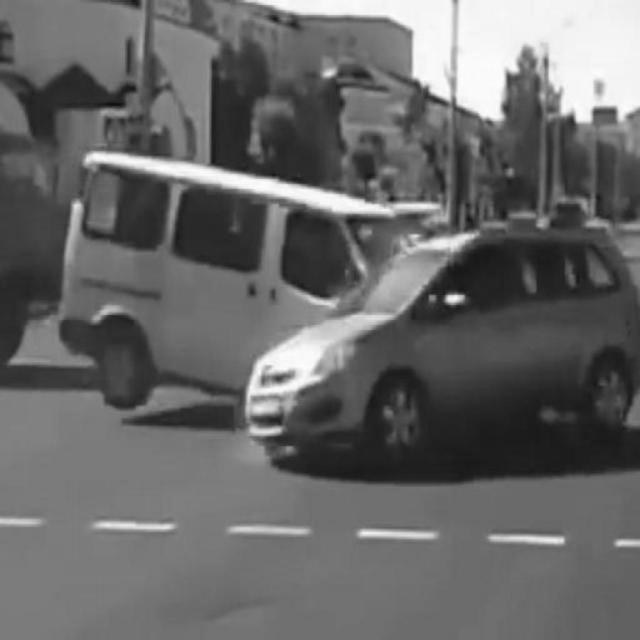accident: (65, 156, 639, 467)
